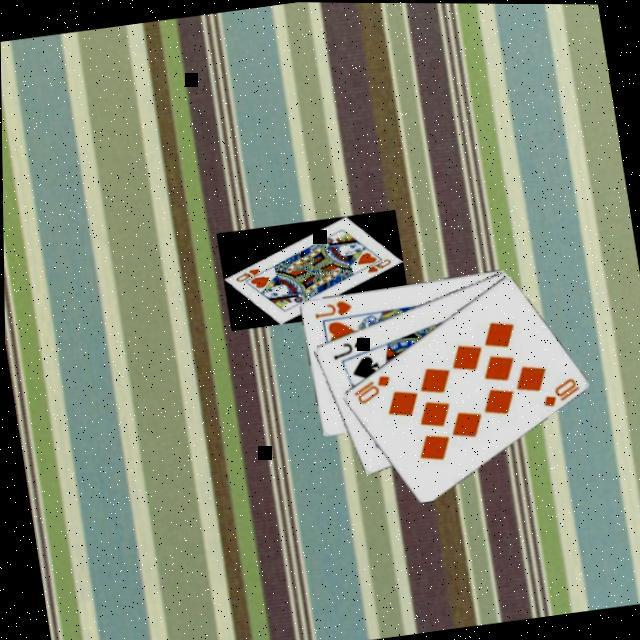10D: (348, 369, 396, 407), (537, 371, 585, 409)
JH: (310, 294, 356, 320)
JS: (328, 330, 373, 361)
